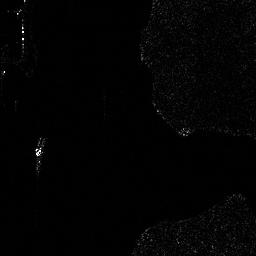ship: (35, 135, 46, 158)
